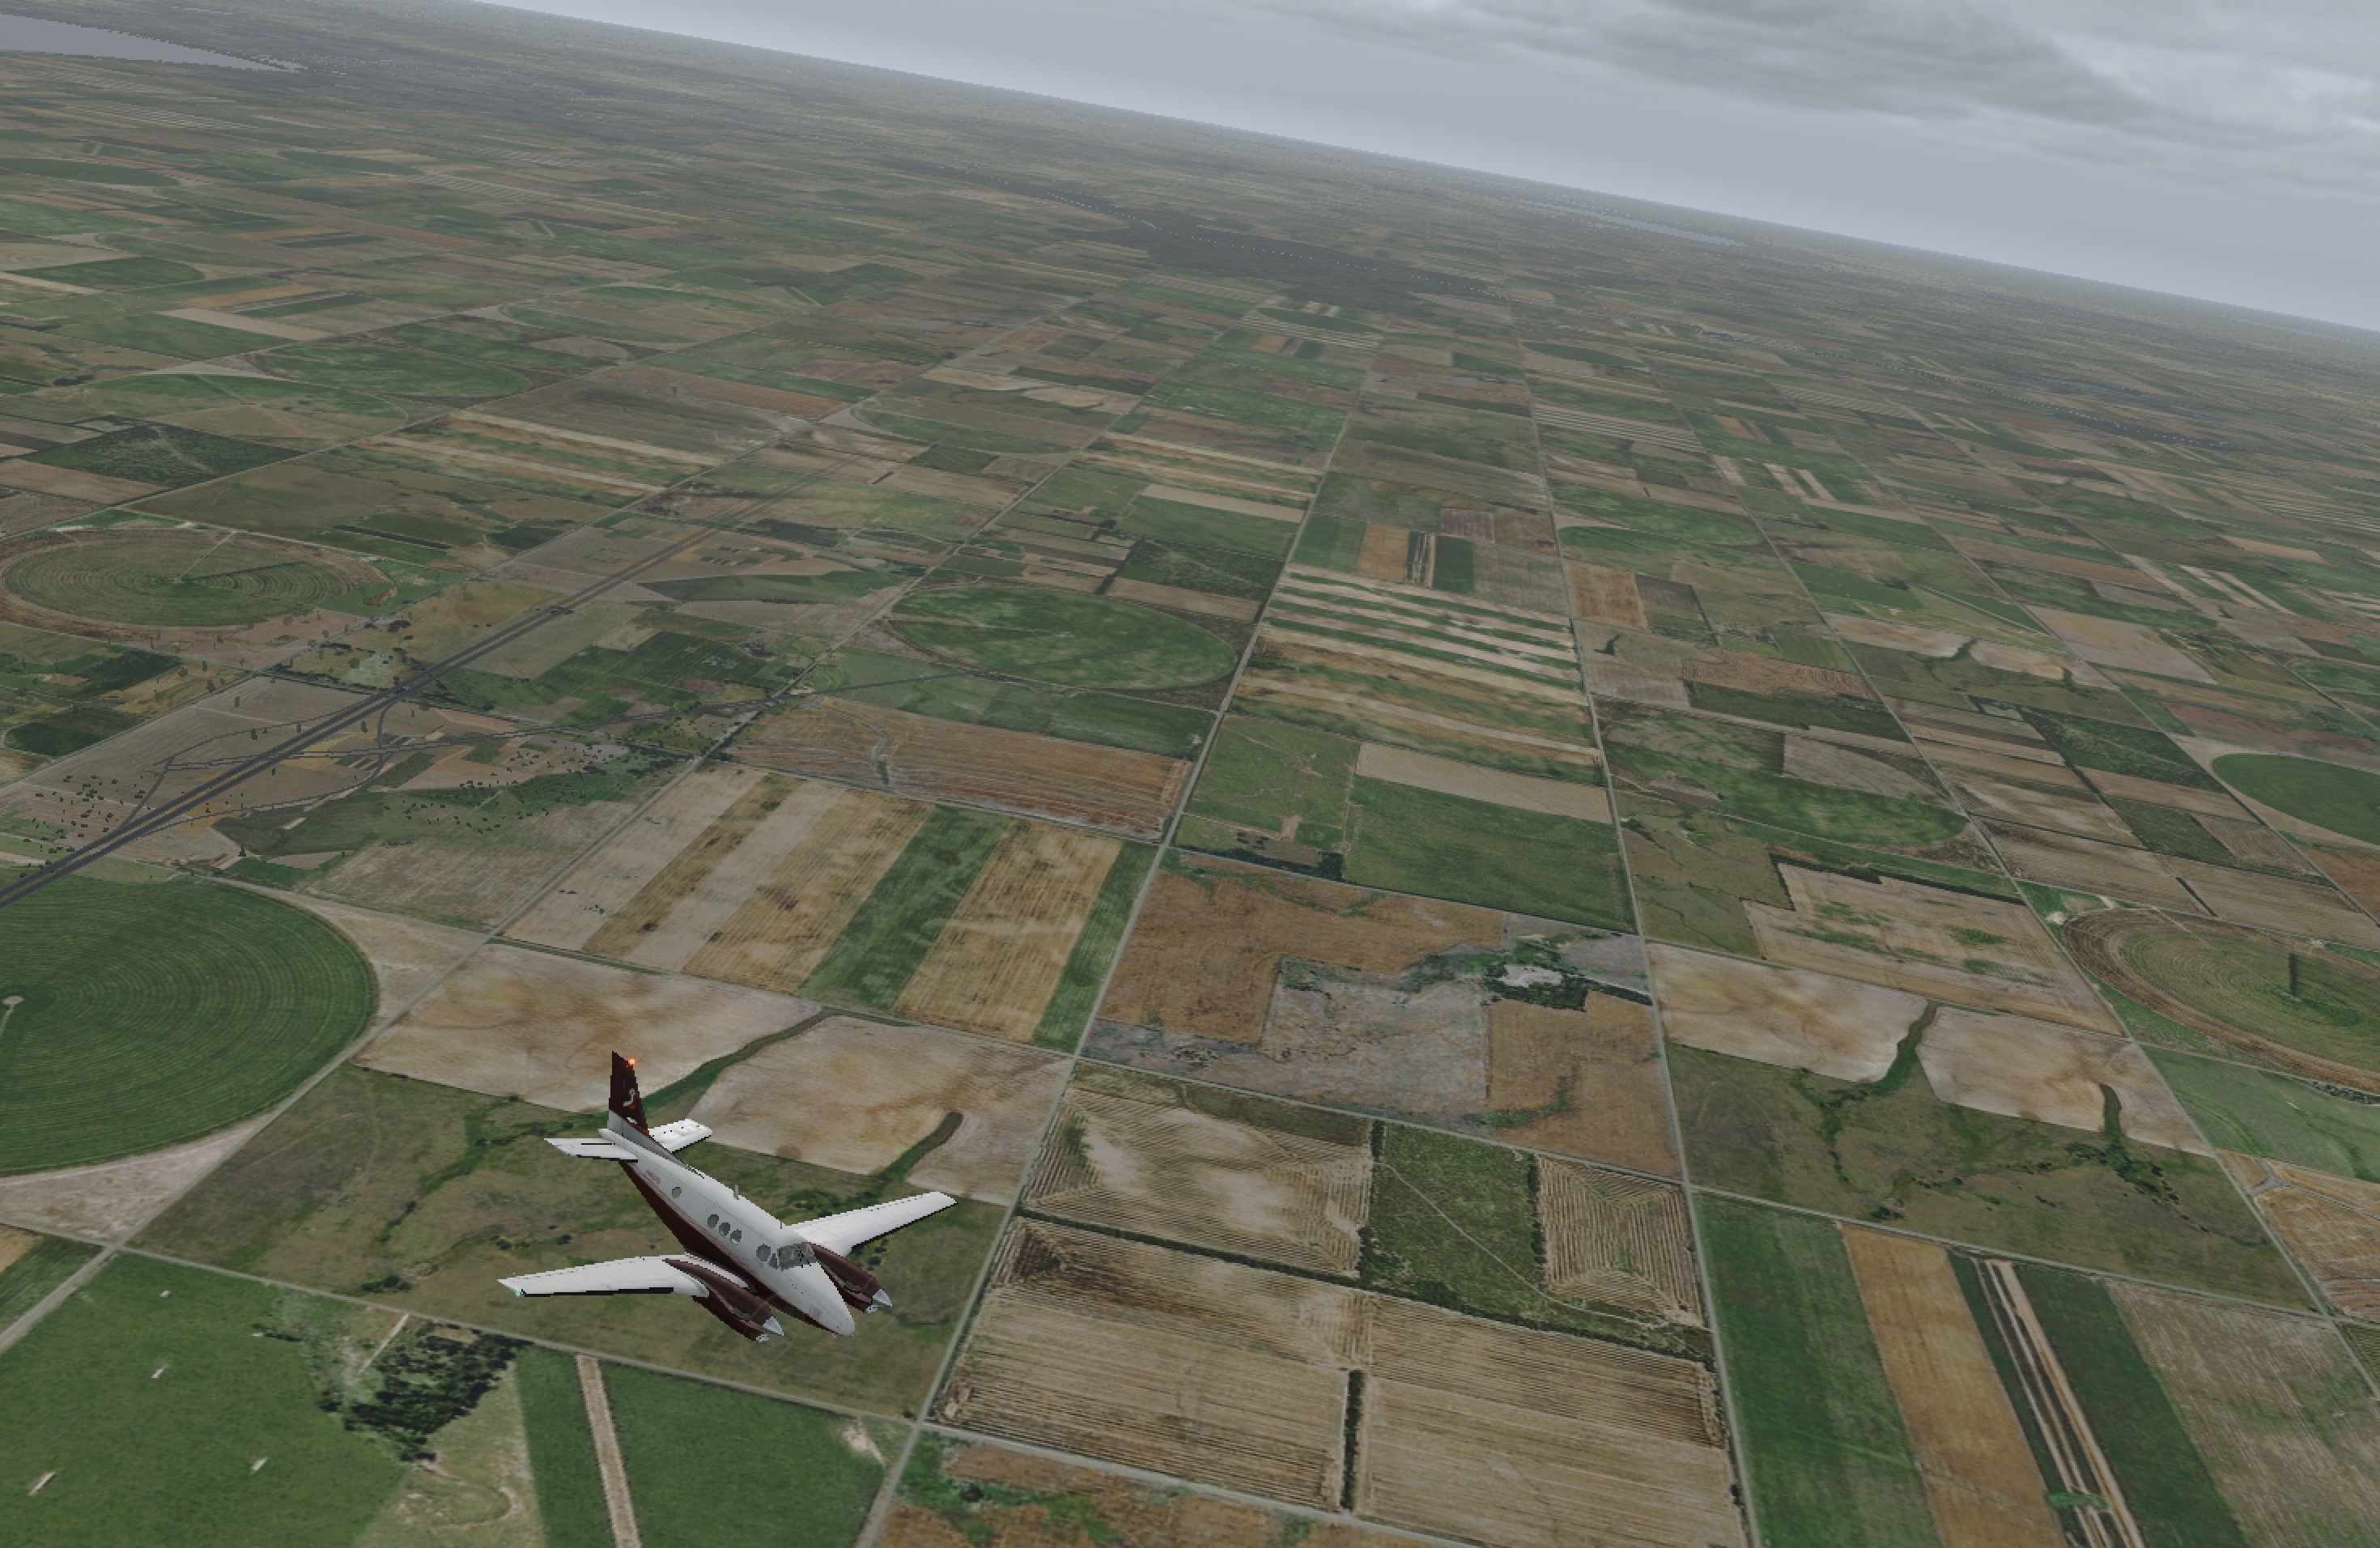aircraft: (470, 1173, 1044, 1388)
